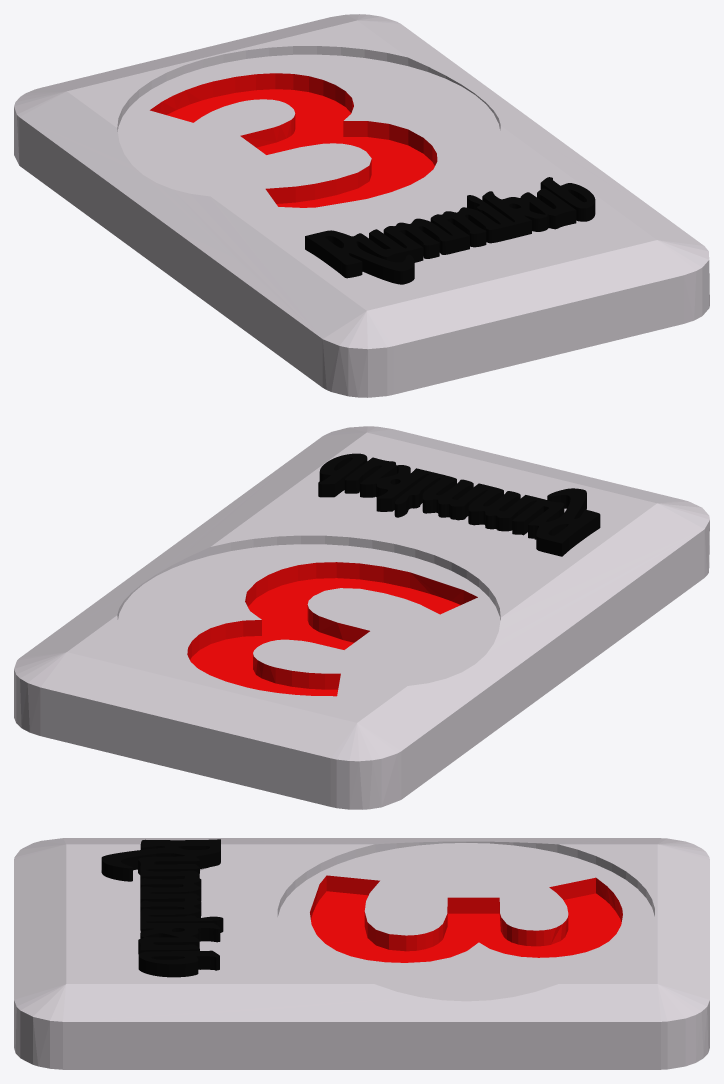
The picture shows the model from 3 angles, top to bottom: view 1: azimuth 30°, elevation 25°; view 2: azimuth 150°, elevation 25°; view 3: azimuth 270°, elevation 25°; orthographic projection.
Visible parts, largest first — view 1: Rummikub 3 Fixed.001; view 2: Rummikub 3 Fixed.001; view 3: Rummikub 3 Fixed.001.
Boxes of the visible parts, box(x1,y1,x2,y2) form: Rummikub 3 Fixed.001: box(14, 14, 709, 397); Rummikub 3 Fixed.001: box(14, 426, 709, 809); Rummikub 3 Fixed.001: box(14, 838, 709, 1069).
Bounding box in the file's own units: 2499 × 487 × 4000.
